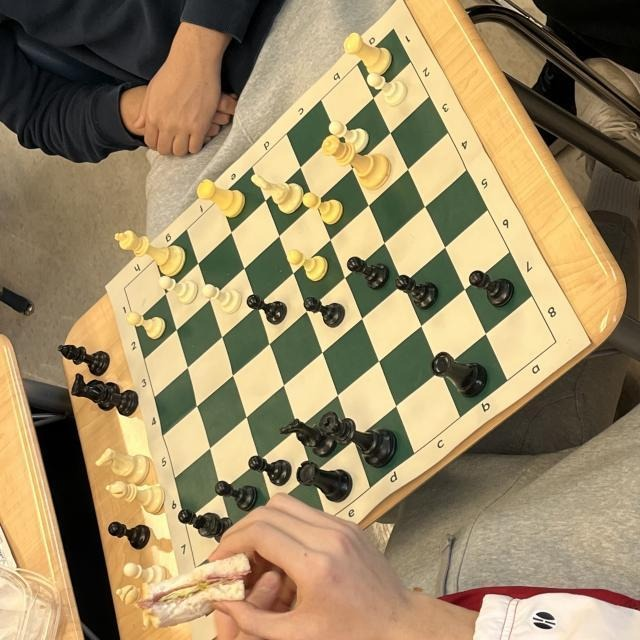black-bishop: (83, 383, 138, 417), (56, 343, 111, 376)
black-knight: (275, 416, 336, 458), (67, 370, 117, 410)
black-pawn: (469, 268, 515, 308), (394, 273, 439, 310), (345, 255, 390, 291), (247, 453, 292, 487), (106, 520, 152, 552), (213, 479, 259, 511), (177, 507, 218, 540), (303, 295, 345, 327), (245, 293, 286, 325)
black-queen: (319, 410, 397, 469)
black-rook: (430, 349, 490, 399), (295, 460, 353, 504)
white-bishop: (107, 480, 165, 516)
white-king: (115, 228, 187, 277)
white-knight: (94, 447, 150, 485), (252, 174, 304, 214)
white-pawn: (200, 282, 244, 315), (328, 118, 367, 154), (367, 73, 407, 107), (302, 190, 342, 224), (287, 248, 328, 280), (124, 560, 170, 587), (158, 274, 198, 305), (125, 310, 166, 340)
white-queen: (322, 134, 392, 189)
white-rook: (343, 32, 392, 78), (195, 178, 245, 218)
